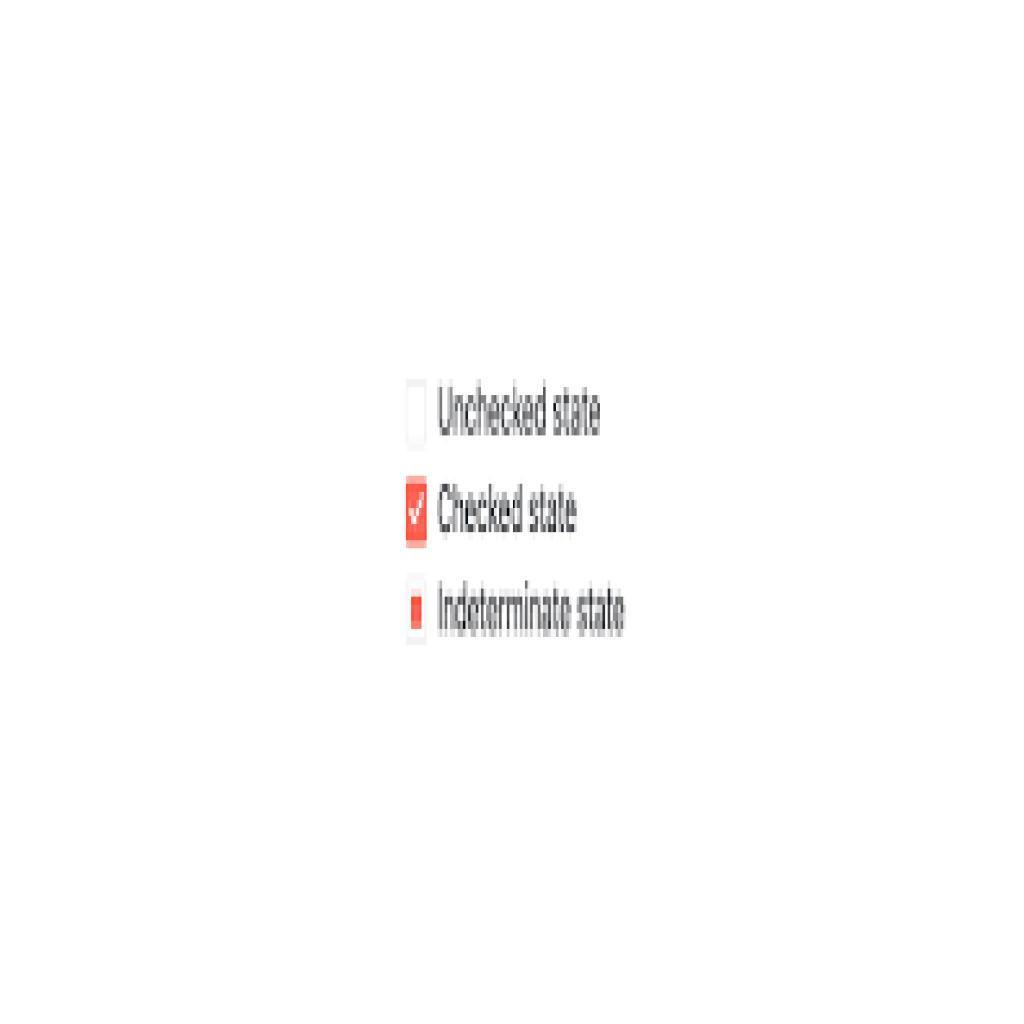checkbox: (401, 385, 431, 455), (403, 476, 432, 545)
